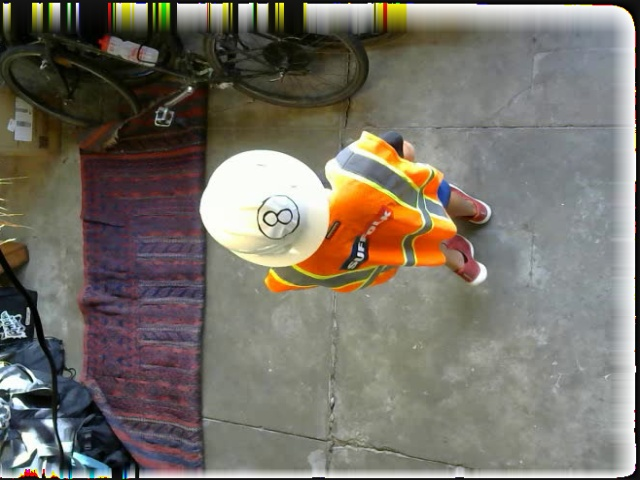eight: (254, 192, 298, 238)
